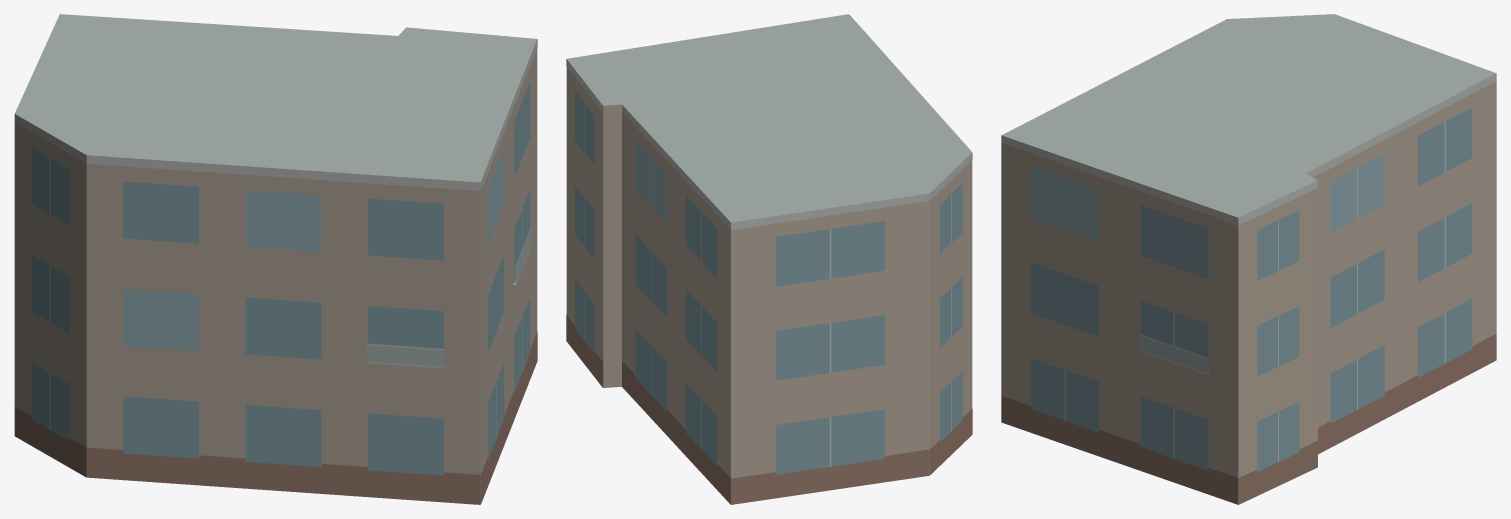
Rendered from survey-upis-32657018.glb.
3 renders of one model, left to right at view 1: azimuth 30°, elevation 25°; view 2: azimuth 150°, elevation 25°; view 3: azimuth 270°, elevation 25°, orthographic. The views are drawn at different scales.
Visible parts, largest first — view 1: survey-upis-32657018.tmp; view 2: survey-upis-32657018.tmp; view 3: survey-upis-32657018.tmp.
Boxes of the visible parts, box(x1,y1,x2,y2) form: survey-upis-32657018.tmp: box(14, 14, 537, 504); survey-upis-32657018.tmp: box(566, 14, 972, 504); survey-upis-32657018.tmp: box(1001, 14, 1496, 504).
Bounding box in the file's own units: 13.94 × 9.15 × 14.31.
